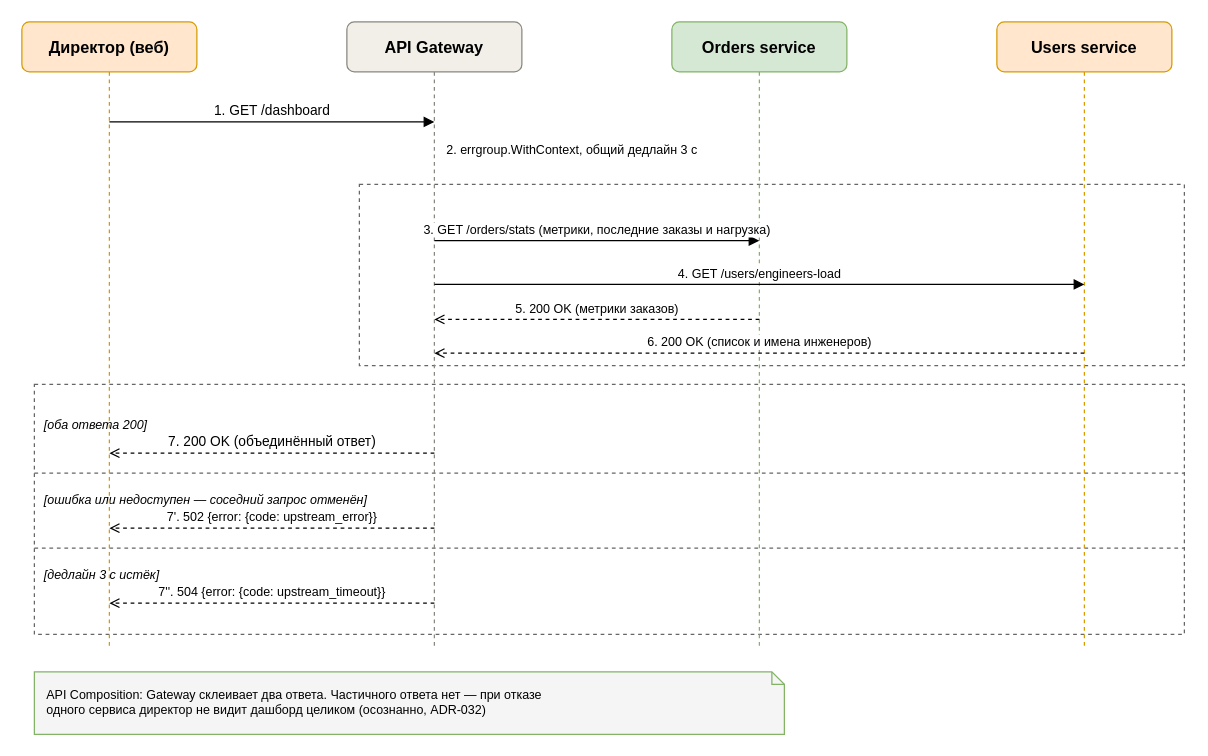
Image size: 1208x756. Some labels were removed from this diagram. Here are the shapes that lost their labels. From the top down, the box of each, then its label:
(358, 183, 1184, 366): par: два параллельных запроса
(33, 383, 1184, 634): alt: итог — всё или ничего (ADR-032)
